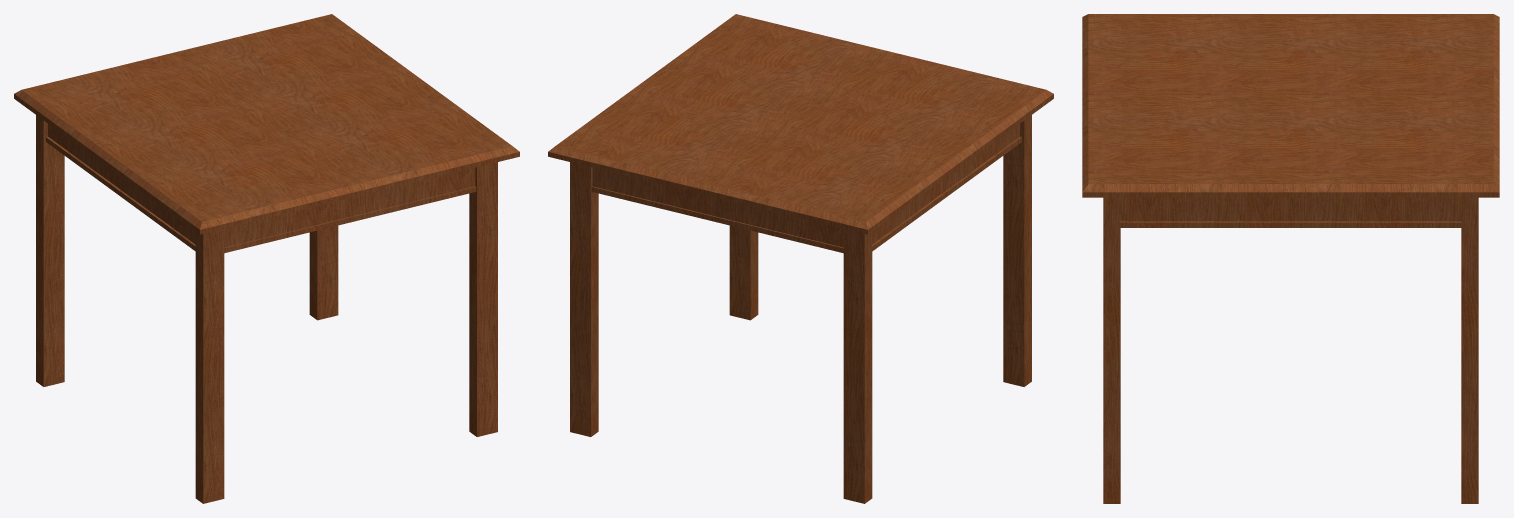
File: Tafel.dae
3 renders of one model, left to right at view 1: azimuth 30°, elevation 25°; view 2: azimuth 150°, elevation 25°; view 3: azimuth 270°, elevation 25°, orthographic. The views are drawn at different scales.
Parts seen in each view (by area): view 1: mesh0%root%0%; view 2: mesh0%root%0%; view 3: mesh0%root%0%.
Part boxes in pixels (bbox=[...]): mesh0%root%0%: bbox=[14, 14, 519, 503]; mesh0%root%0%: bbox=[548, 14, 1053, 503]; mesh0%root%0%: bbox=[1082, 14, 1499, 503].
Size of the model in its own units: 0.8713 by 0.7515 by 0.8764.
